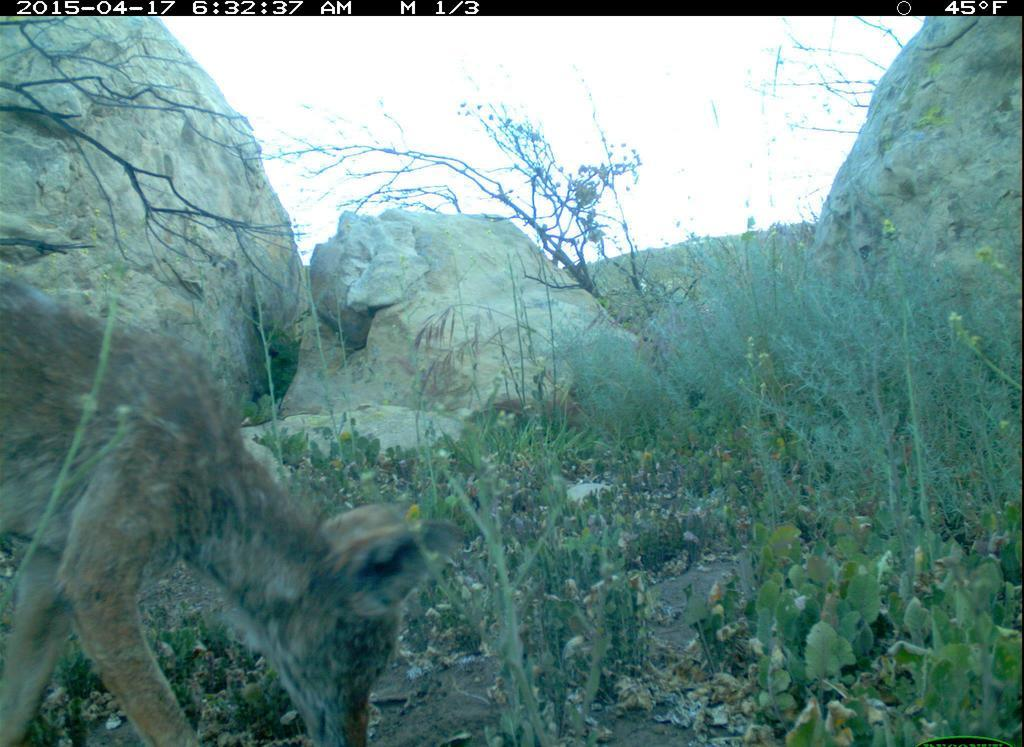coyote: (4, 259, 466, 743)
